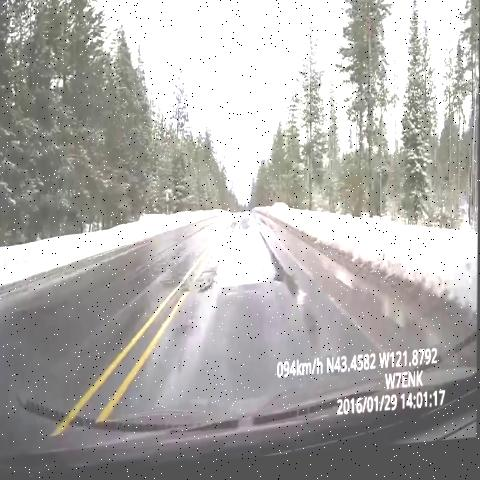pothole: (193, 253, 224, 311), (261, 216, 280, 248), (240, 209, 256, 243), (225, 216, 237, 244)
